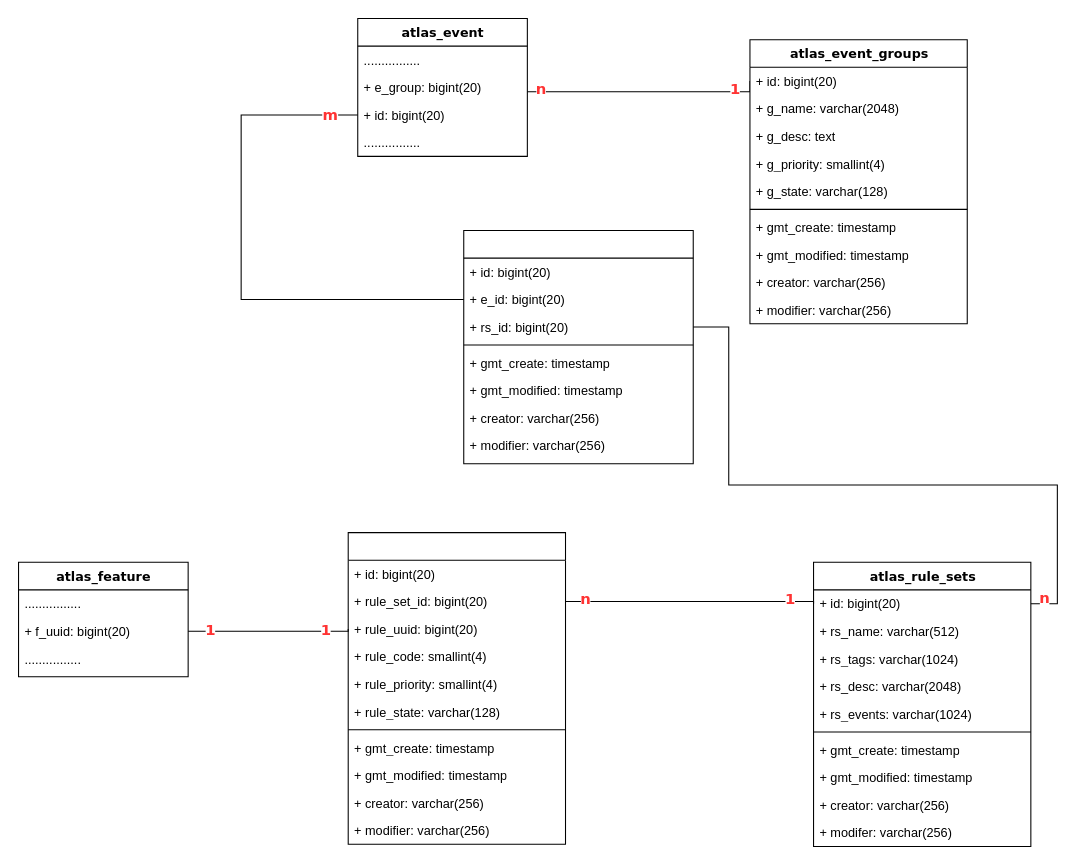
This 1077x868 diagram has some shape labels left out. The box of each missing label's shape, as (x1, y1, x2, y2) in pixels:
atlas_event_rule_set_rel: (463, 229, 693, 464)
atlas_rule_set_details: (347, 532, 566, 844)
